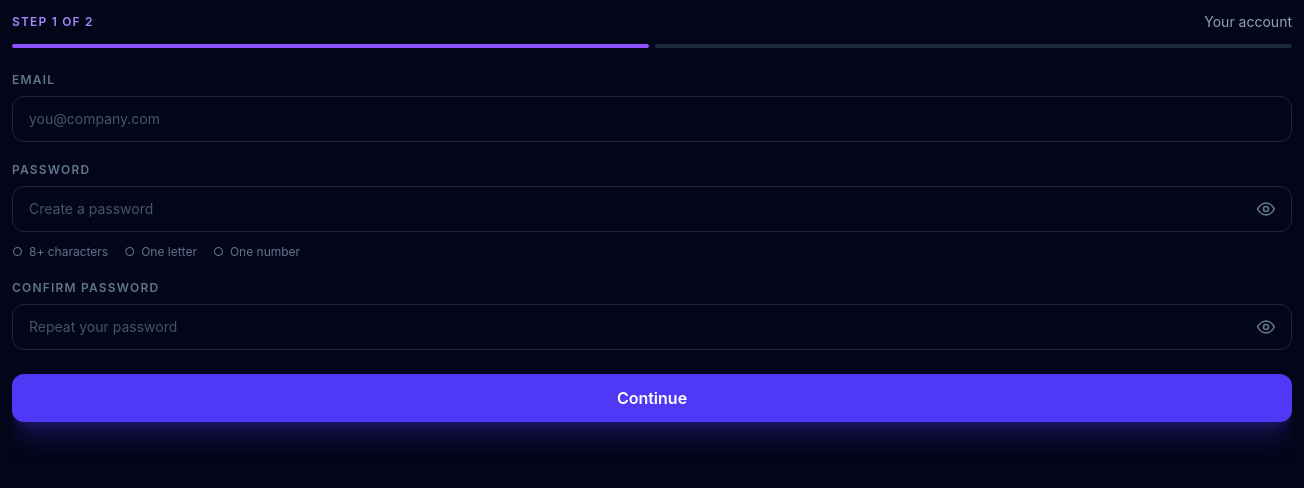
SignupForm account step › rejects a mismatched confirmation
The image size is (1304, 488).
Type "jane@acme.com" into the field labelled "Email" at (652, 119), box [12,96,1292,142]
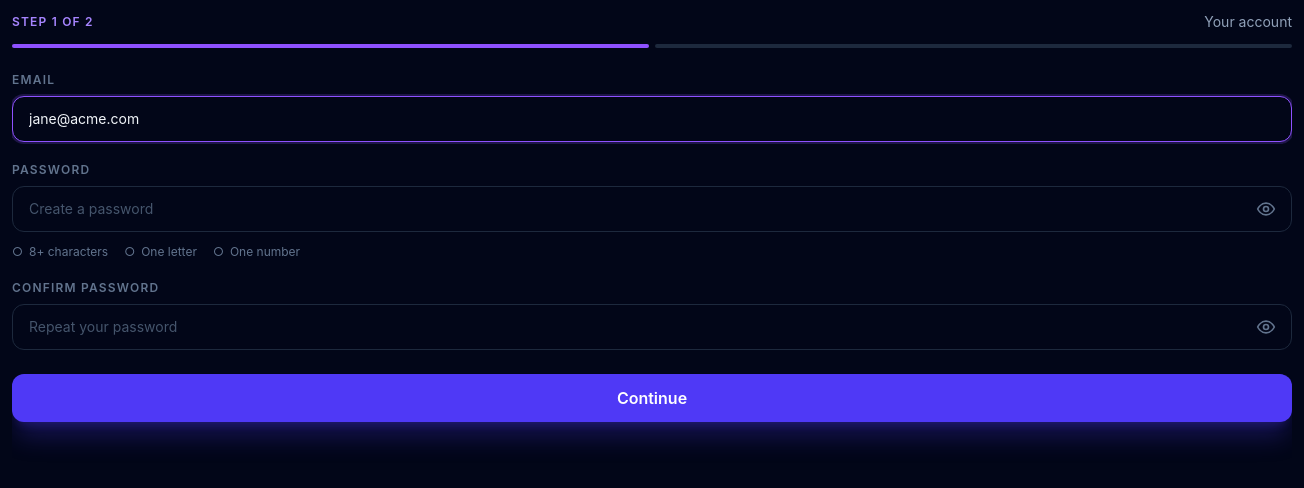
Type "hunter2secret" into the password field labelled "Password" at (652, 209), box [12,186,1292,232]
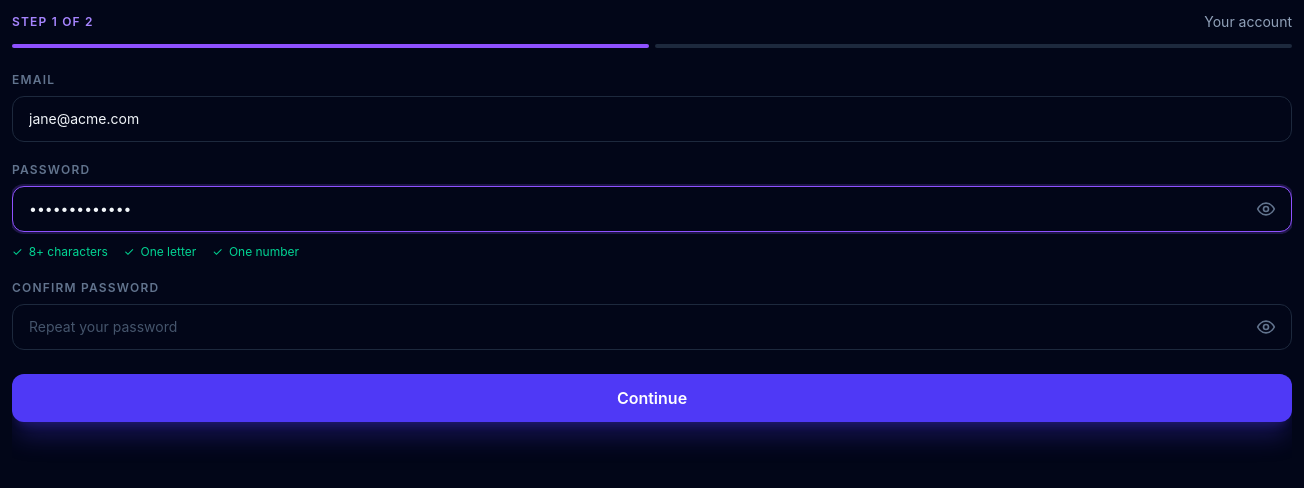
Type "different1" into the password field labelled "Confirm password" at (652, 327), box [12,304,1292,350]
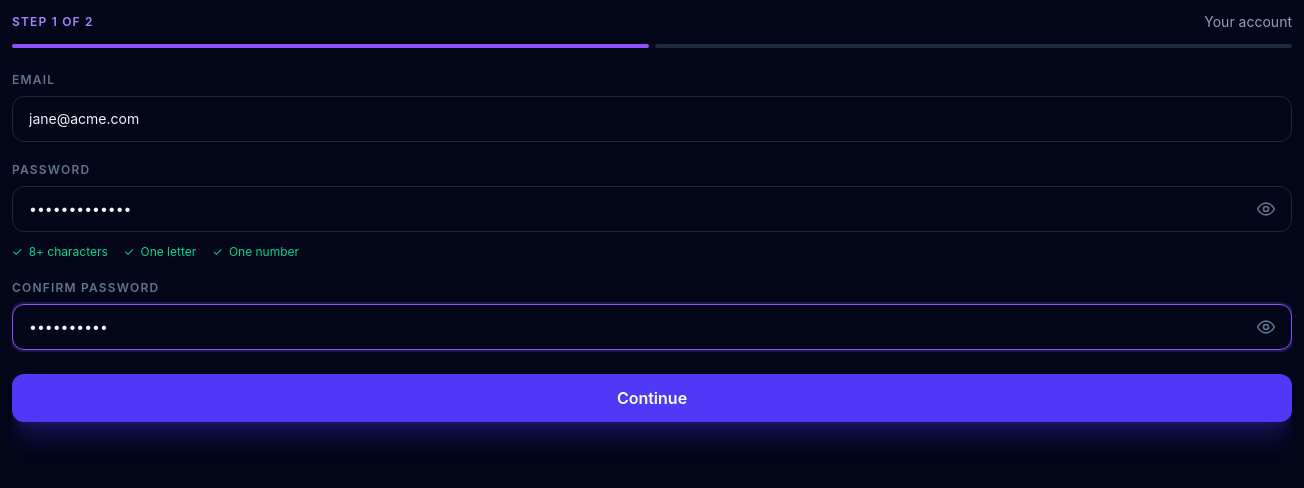
Click the button "Continue" at (652, 398), box [12,374,1292,422]
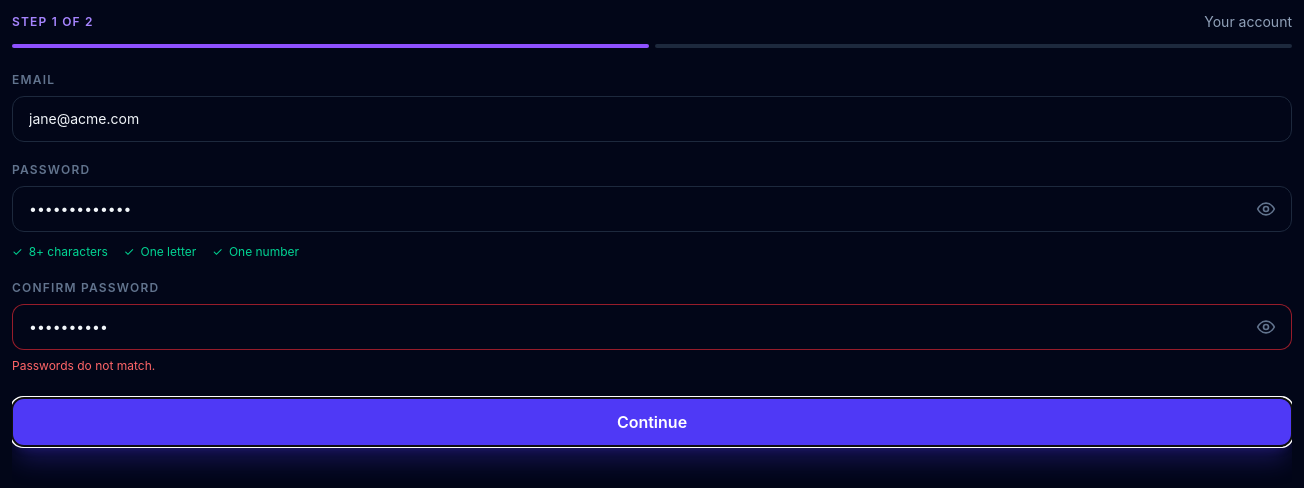
Check: the text "Passwords do not match." is shown, box [12,358,155,373]
